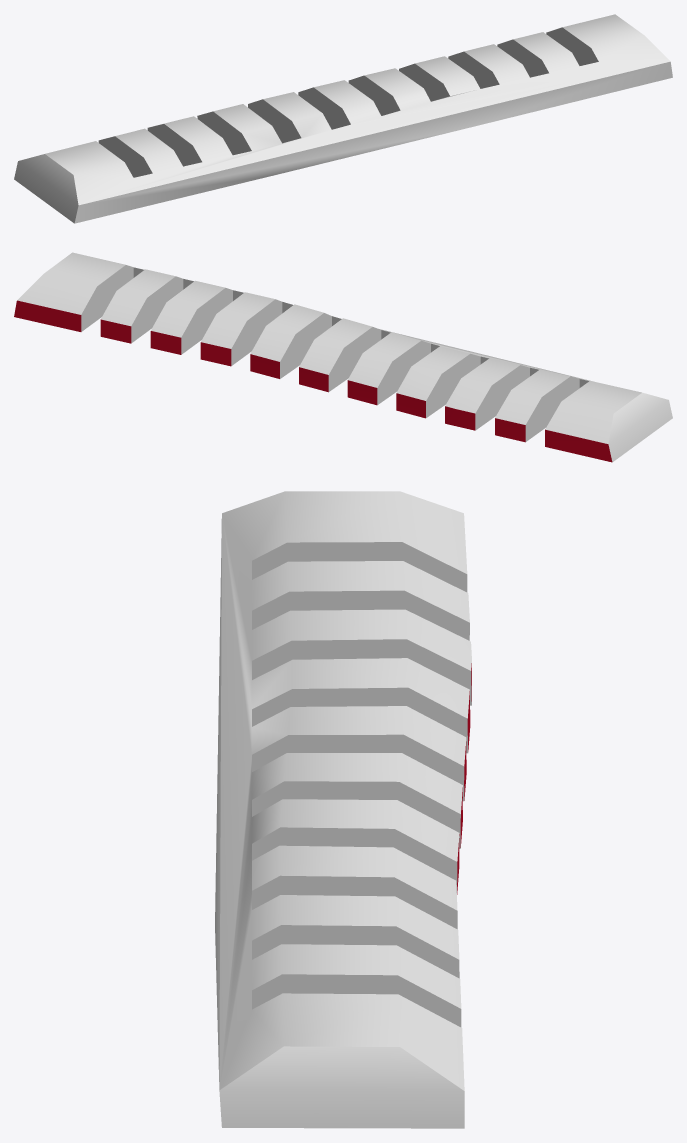
The model's file is willowSplitLogNotchedRack.glb.
3 renders of one model, top to bottom at view 1: azimuth 30°, elevation 25°; view 2: azimuth 150°, elevation 25°; view 3: azimuth 270°, elevation 25°, orthographic. The views are drawn at different scales.
Visible parts, largest first — view 1: Cylinder; view 2: Cylinder; view 3: Cylinder.
Boxes of the visible parts, x1,y1,x2,y2 form: Cylinder: [14, 14, 672, 223]; Cylinder: [14, 252, 672, 462]; Cylinder: [215, 491, 471, 1128].
Size of the model in its own units: 2.17 by 0.1312 by 0.4044.
